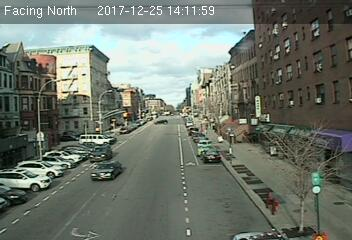car: (89, 159, 122, 180), (90, 146, 112, 161), (203, 150, 221, 162)
